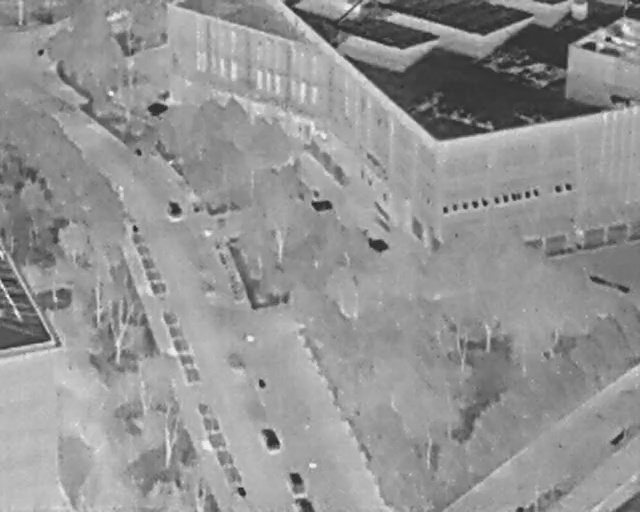Car: (259, 424, 282, 454), (286, 469, 306, 496), (164, 197, 184, 219), (295, 498, 315, 512)
